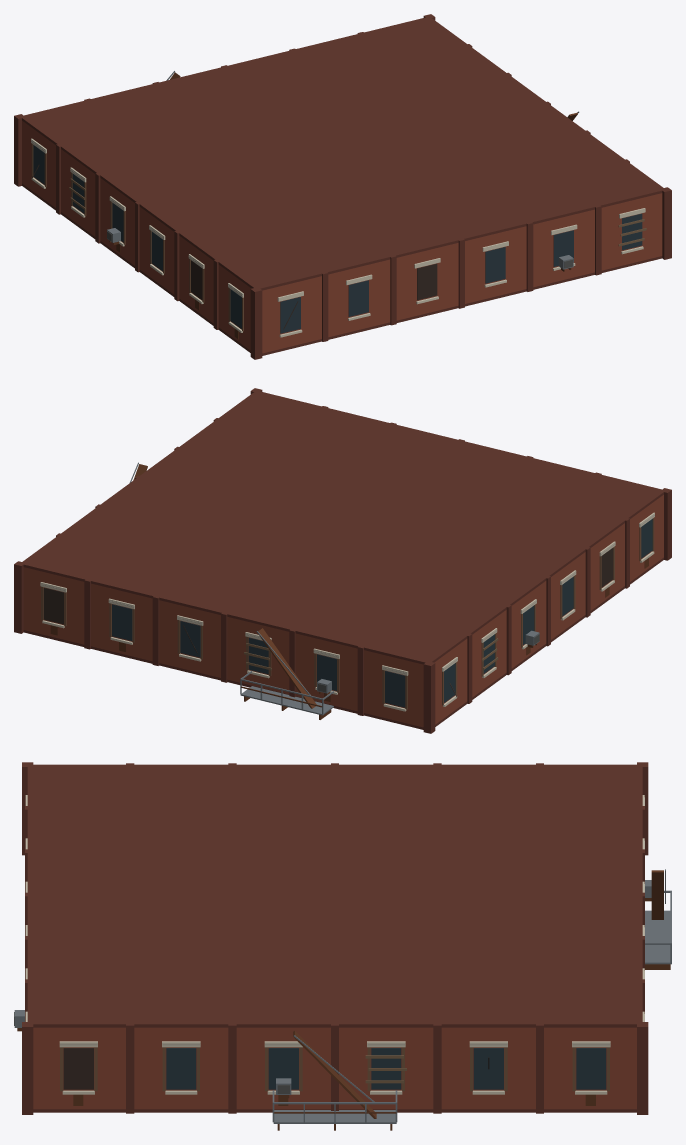
The model's file is tw_brick_24_floor.glb.
3 views of the same model, one above another, from view 1: azimuth 30°, elevation 25°; view 2: azimuth 150°, elevation 25°; view 3: azimuth 270°, elevation 25° (orthographic). The views are drawn at different scales.
Visible parts, largest first — view 1: tw_brick_24_floor; view 2: tw_brick_24_floor; view 3: tw_brick_24_floor.
Boxes of the visible parts, left/top/right/bottom form: tw_brick_24_floor: left=14, top=14, right=671, bottom=359; tw_brick_24_floor: left=14, top=388, right=671, bottom=733; tw_brick_24_floor: left=14, top=762, right=671, bottom=1130.
Size of what is drawn, in the model's own units: 25.68 by 4.07 by 25.68.
Materials: 2 (2 with a texture image).
